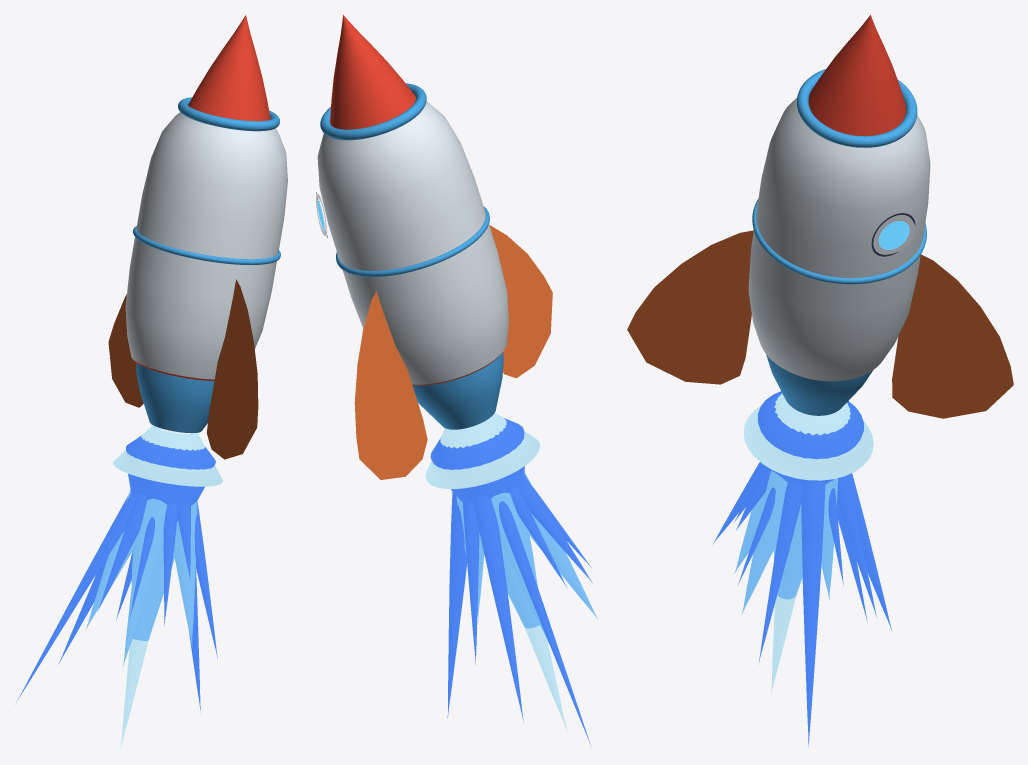
File: rocket.glb
The picture shows the model from 3 angles, left to right: view 1: azimuth 30°, elevation 25°; view 2: azimuth 150°, elevation 25°; view 3: azimuth 270°, elevation 25°; orthographic projection. The views are drawn at different scales.
Visible parts, largest first — view 1: Body, Fin_Bottom, Nose, Engine, F_ColOuter, F_Flare, F_Lobe3, Fin_Top, F_Lobe4, F_ColMid, F_Streak_3, Band_Collar (+11 smaller); view 2: Body, Fin_Top, Nose, Fin_Bottom, Engine, F_Flare, F_ColOuter, F_Streak_2, F_Streak_3, F_Streak_11, Band_Collar, F_Streak_1 (+8 smaller); view 3: Body, Fin_Bottom, Fin_Top, Nose, F_Flare, F_Streak_11, F_ColOuter, Engine, Band_Collar, F_Streak_10, F_Lobe4, Band_Mid (+9 smaller).
Part boxes in pixels (bbox=[...]): Body: bbox=[125, 112, 287, 379]; Fin_Bottom: bbox=[206, 279, 258, 459]; Nose: bbox=[188, 15, 270, 121]; Engine: bbox=[136, 363, 214, 433]; F_ColOuter: bbox=[126, 435, 215, 521]; F_Flare: bbox=[113, 425, 222, 486]; F_Lobe3: bbox=[123, 498, 166, 666]; Fin_Top: bbox=[108, 294, 143, 407]; F_Lobe4: bbox=[174, 501, 197, 647]; F_ColMid: bbox=[131, 522, 177, 640]; F_Streak_3: bbox=[16, 496, 127, 702]; Band_Collar: bbox=[178, 97, 279, 131]; Body: bbox=[317, 101, 508, 384]; Fin_Top: bbox=[354, 291, 427, 479]; Nose: bbox=[330, 14, 415, 129]; Fin_Bottom: bbox=[489, 225, 552, 378]; Engine: bbox=[412, 352, 503, 429]; F_Flare: bbox=[425, 412, 539, 489]; F_ColOuter: bbox=[430, 418, 524, 502]; F_Streak_2: bbox=[473, 495, 523, 722]; F_Streak_3: bbox=[498, 501, 591, 746]; F_Streak_11: bbox=[447, 491, 466, 718]; Band_Collar: bbox=[320, 83, 426, 140]; F_Streak_1: bbox=[462, 499, 479, 664]; Body: bbox=[748, 98, 930, 381]; Fin_Bottom: bbox=[627, 230, 753, 384]; Fin_Top: bbox=[892, 254, 1013, 418]; Nose: bbox=[808, 15, 906, 136]; F_Flare: bbox=[743, 393, 873, 480]; F_Streak_11: bbox=[801, 481, 825, 746]; F_ColOuter: bbox=[758, 391, 863, 486]; Engine: bbox=[766, 354, 873, 415]; Band_Collar: bbox=[797, 69, 917, 147]; F_Streak_10: bbox=[758, 481, 803, 664]; F_Lobe4: bbox=[741, 470, 787, 614]; Band_Mid: bbox=[752, 198, 926, 284].
Size of the model in its own units: 2.34 by 5.8 by 2.61.
